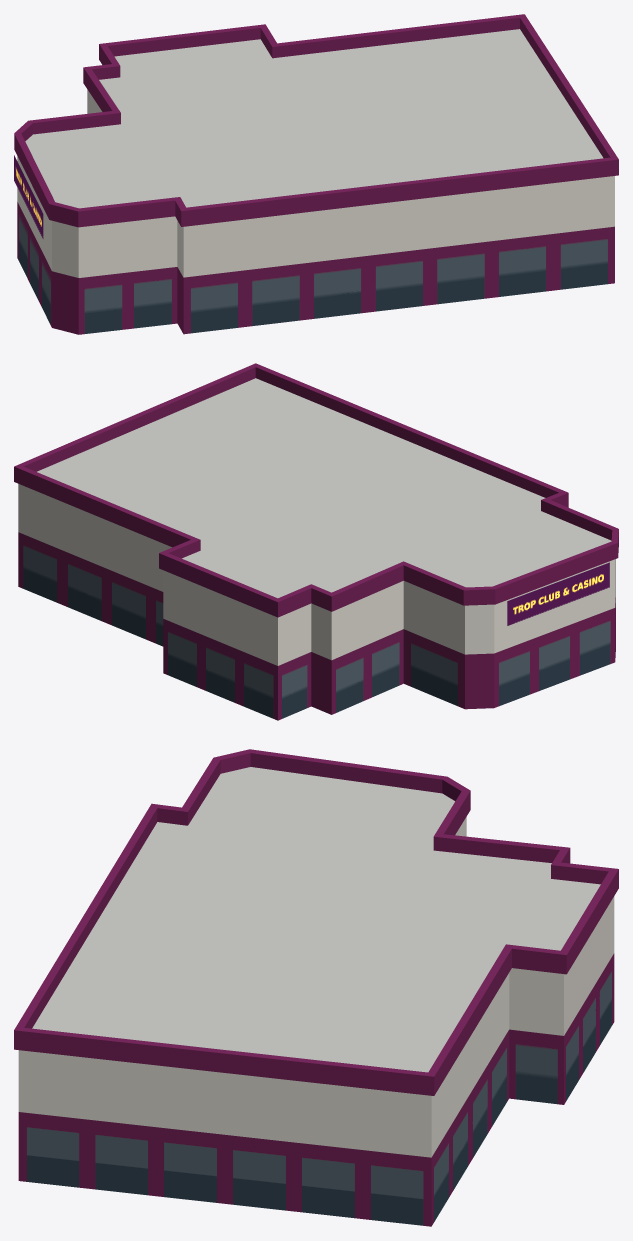
Rendered from tropclub.glb.
3 views of the same model, one above another, from view 1: azimuth 30°, elevation 25°; view 2: azimuth 150°, elevation 25°; view 3: azimuth 270°, elevation 25° (orthographic). The views are drawn at different scales.
Visible parts, largest first — view 1: tropclub_lod0; view 2: tropclub_lod0; view 3: tropclub_lod0.
Part boxes in pixels (left/top/right/bottom): tropclub_lod0: left=14, top=14, right=618, bottom=334; tropclub_lod0: left=14, top=363, right=618, bottom=720; tropclub_lod0: left=14, top=749, right=618, bottom=1226.
Size of what is drawn, in the model's own units: 50.88 by 11 by 39.71.
5 materials, 3 textured.
